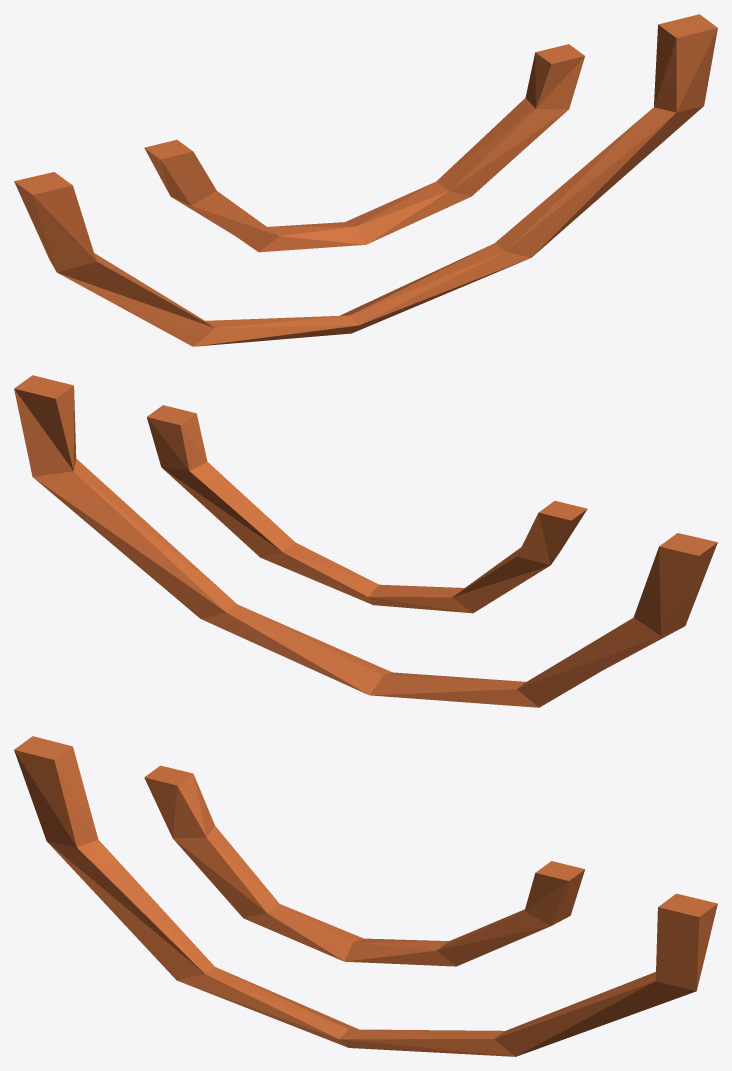
File: vine_drape.glb
3 views of the same model, one above another, from view 1: azimuth 30°, elevation 25°; view 2: azimuth 150°, elevation 25°; view 3: azimuth 330°, elevation 25° (orthographic).
Parts seen in each view (by area): view 1: Vine_A_7; view 2: Vine_A_7; view 3: Vine_A_7.
Boxes of the visible parts, bbox=[...] form: Vine_A_7: bbox=[14, 14, 717, 346]; Vine_A_7: bbox=[14, 375, 717, 707]; Vine_A_7: bbox=[14, 736, 717, 1056].
Bounding box in the file's own units: 2.4 × 0.76 × 0.14.
Materials: 1 (1 with a texture image).
